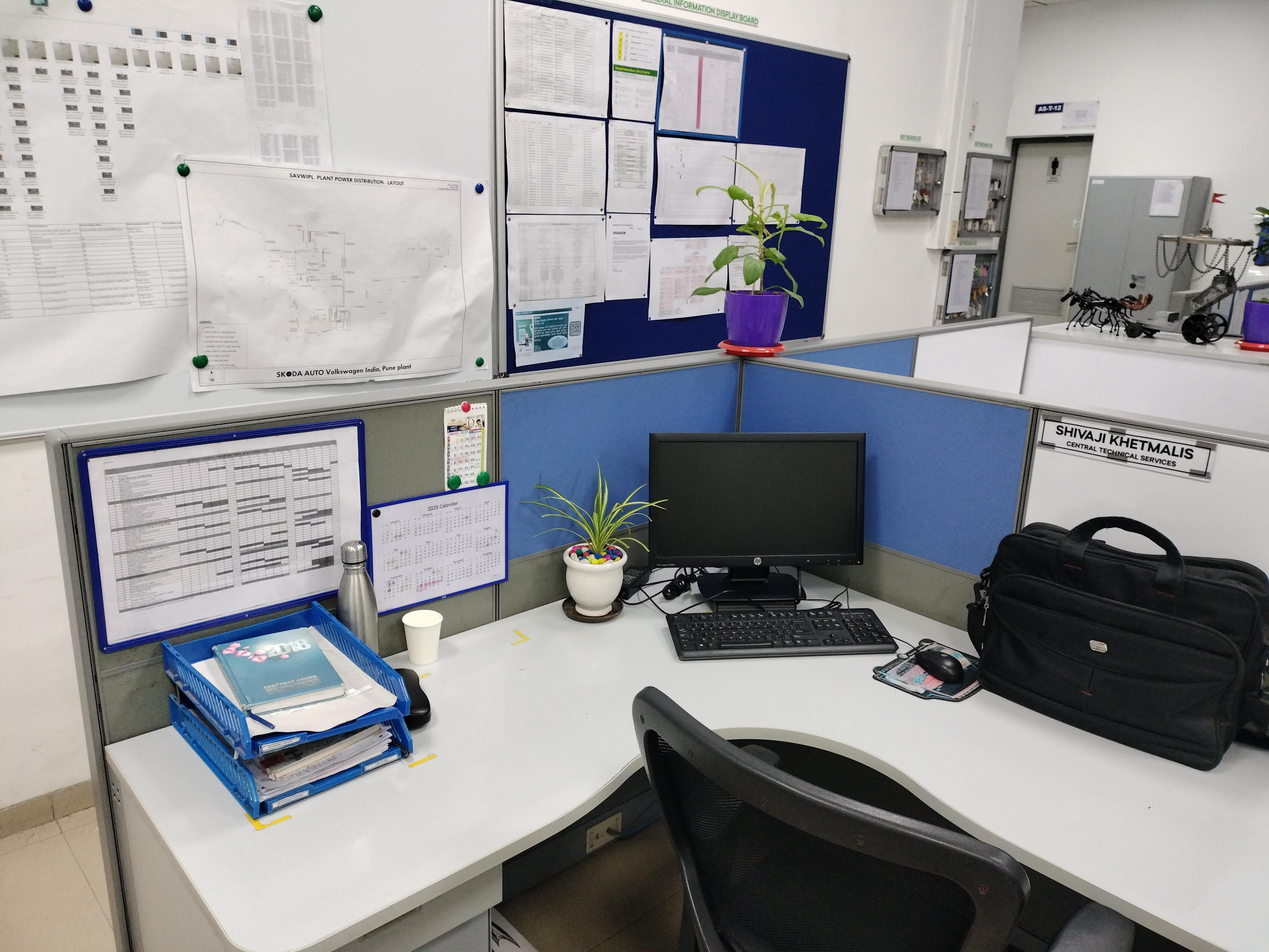bag: (963, 514, 1269, 770)
book: (212, 627, 347, 718), (254, 725, 383, 781)
bottle: (338, 540, 379, 654)
calender: (367, 480, 510, 618), (444, 400, 487, 493)
desktop: (648, 432, 867, 604)
filetray: (160, 601, 414, 822)
keyboard: (664, 607, 901, 661)
mouse: (913, 647, 966, 682)
mug: (401, 609, 444, 666)
nameplate: (1035, 409, 1219, 485)
page: (76, 418, 367, 654), (193, 624, 398, 737), (245, 724, 392, 800)
vase: (718, 290, 790, 358), (563, 541, 628, 616)
